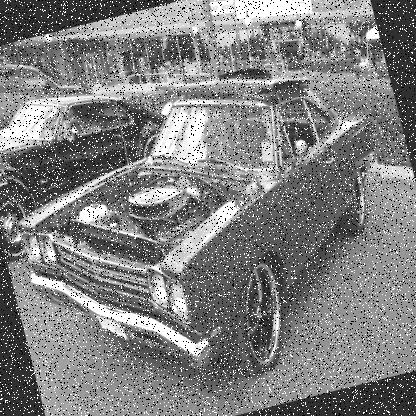Car: (0, 43, 415, 415), (0, 65, 207, 263), (0, 35, 94, 127)
